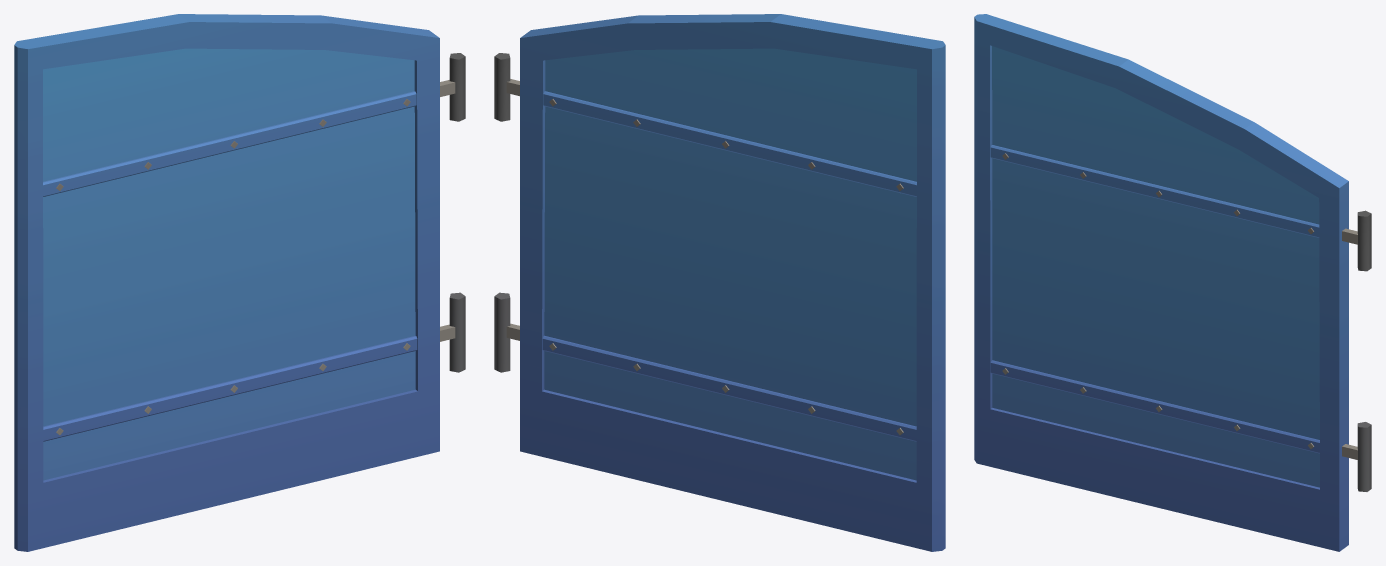
File: WallFence_3_Gate_A.fbx
3 views of the same model, side by side, from view 1: azimuth 30°, elevation 25°; view 2: azimuth 150°, elevation 25°; view 3: azimuth 330°, elevation 25° (orthographic). The views are drawn at different scales.
Visible parts, largest first — view 1: WallFence_3_Gate_A; view 2: WallFence_3_Gate_A; view 3: WallFence_3_Gate_A.
Part boxes in pixels (bbox=[...]): WallFence_3_Gate_A: bbox=[14, 14, 465, 551]; WallFence_3_Gate_A: bbox=[494, 14, 945, 551]; WallFence_3_Gate_A: bbox=[974, 14, 1371, 551].
Size of the model in its own units: 189 by 203 by 8.
